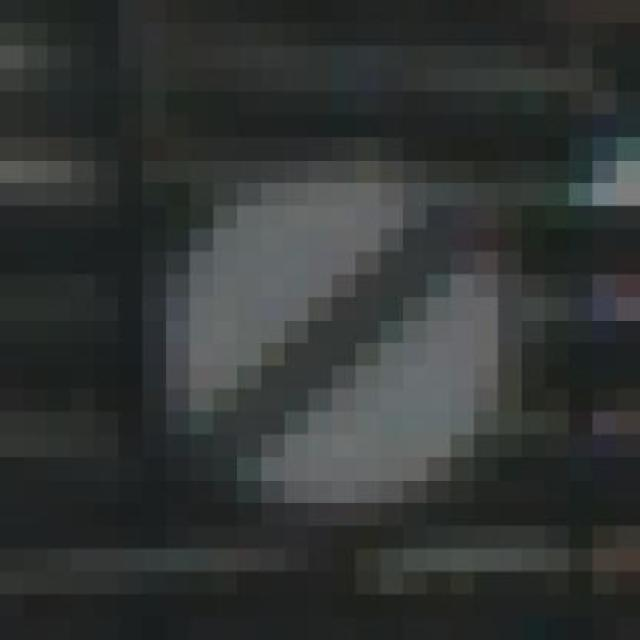End of all speed and passing limits: (142, 114, 546, 549)
